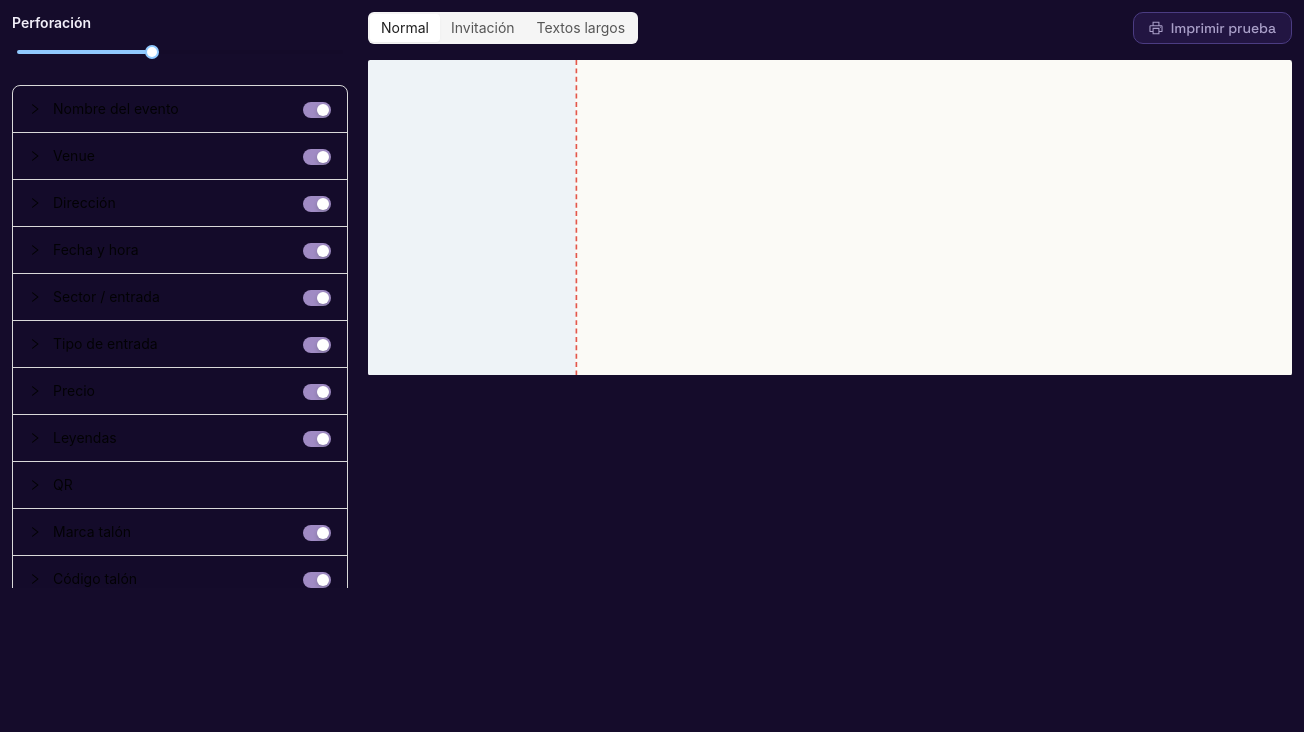
Scenario: TicketDesigner › el selector de fuente ofrece las 4 fuentes y arranca en el default de la zona
Check: the text "Nombre del evento" is shown, box 53,100 -> 179,117
Click the button "Nombre del evento" at (180, 109), box 29,100 -> 331,118
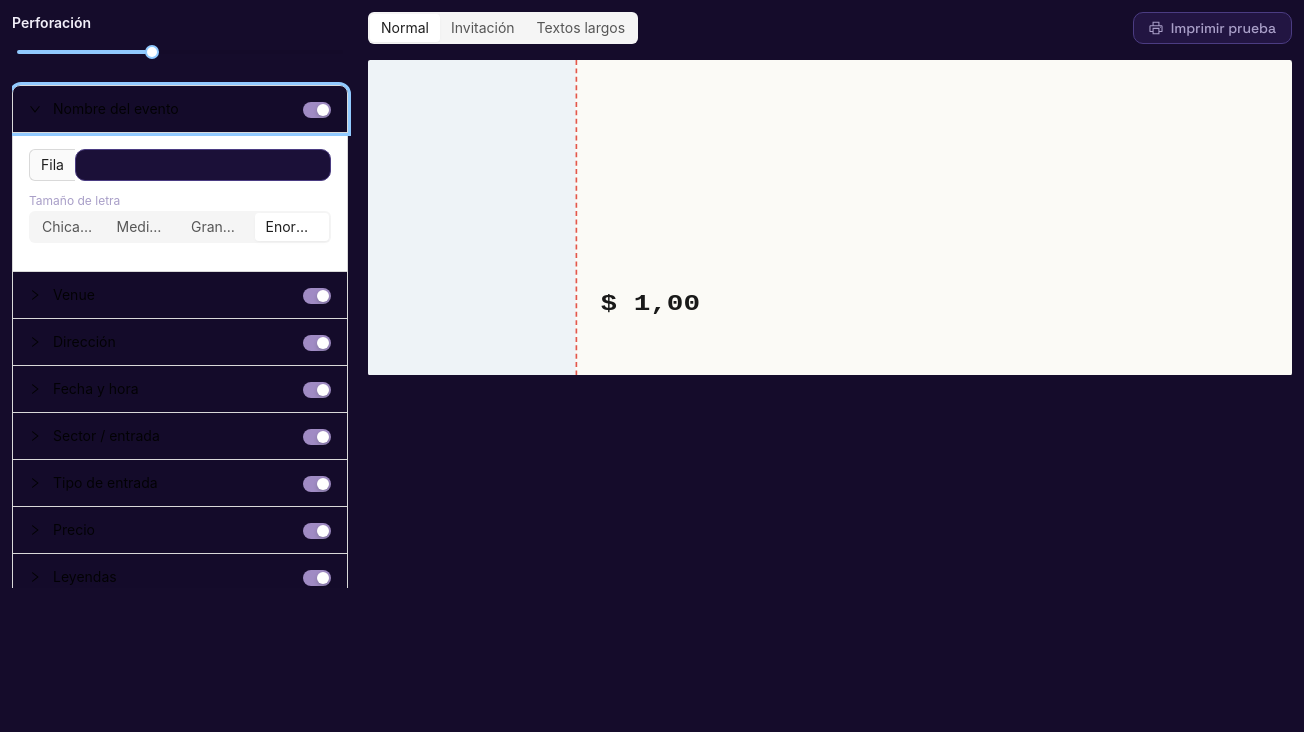
Check: the text "Tamaño de letra" is shown, box 29,193 -> 120,208
Check: the text "Chica (1,9 mm)" is shown, box 31,213 -> 106,241
Check: the text "Media (3,9 mm)" is shown, box 106,213 -> 180,241
